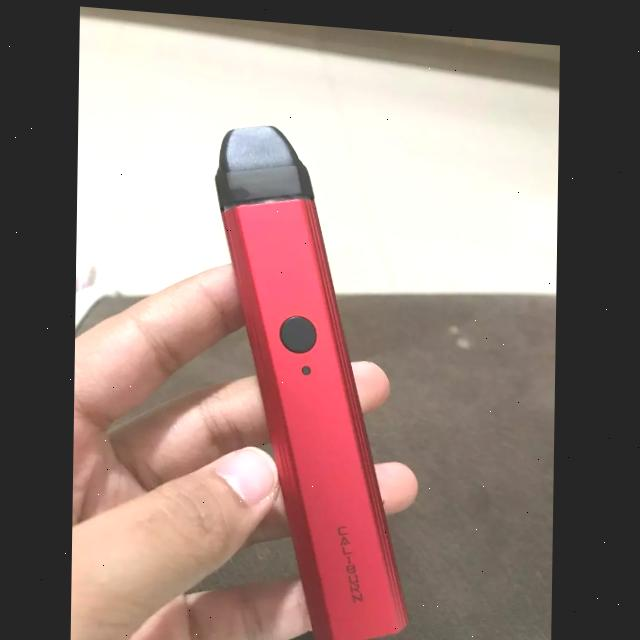vape: (211, 120, 418, 640)
